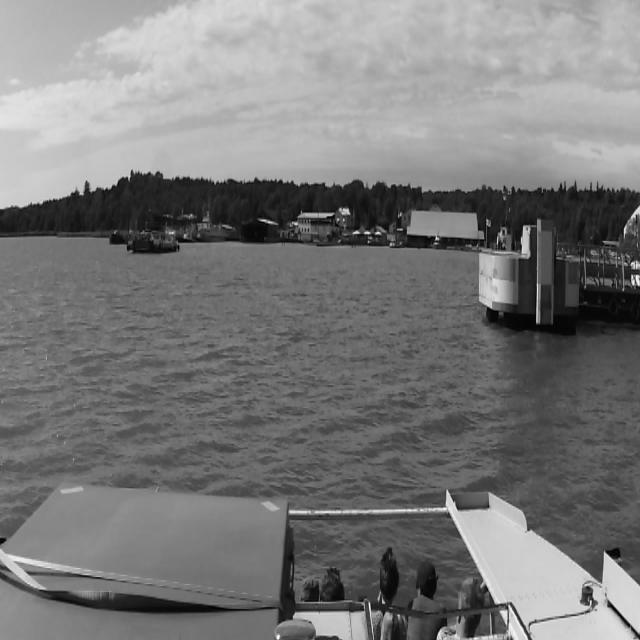ship: (122, 226, 189, 252), (196, 218, 228, 241)
